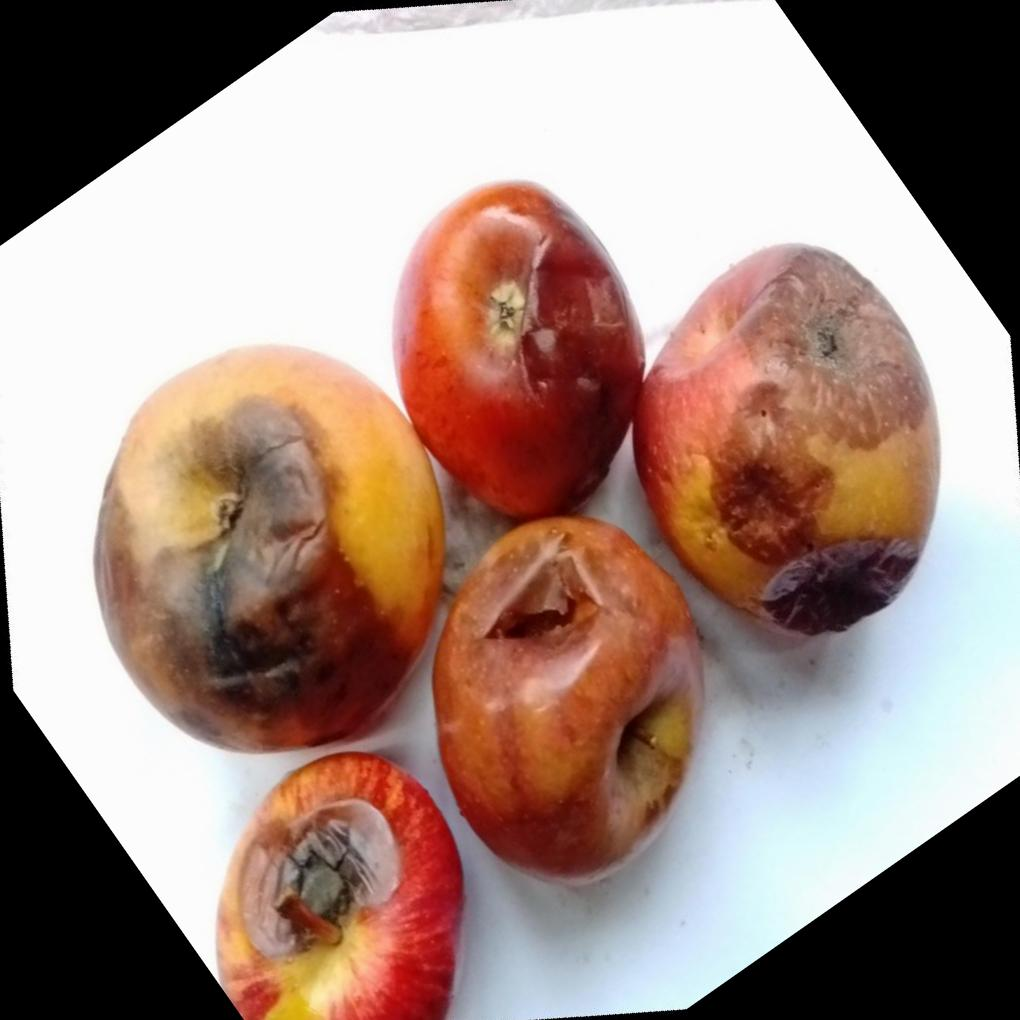FreshOrange: (93, 175, 946, 1020)
